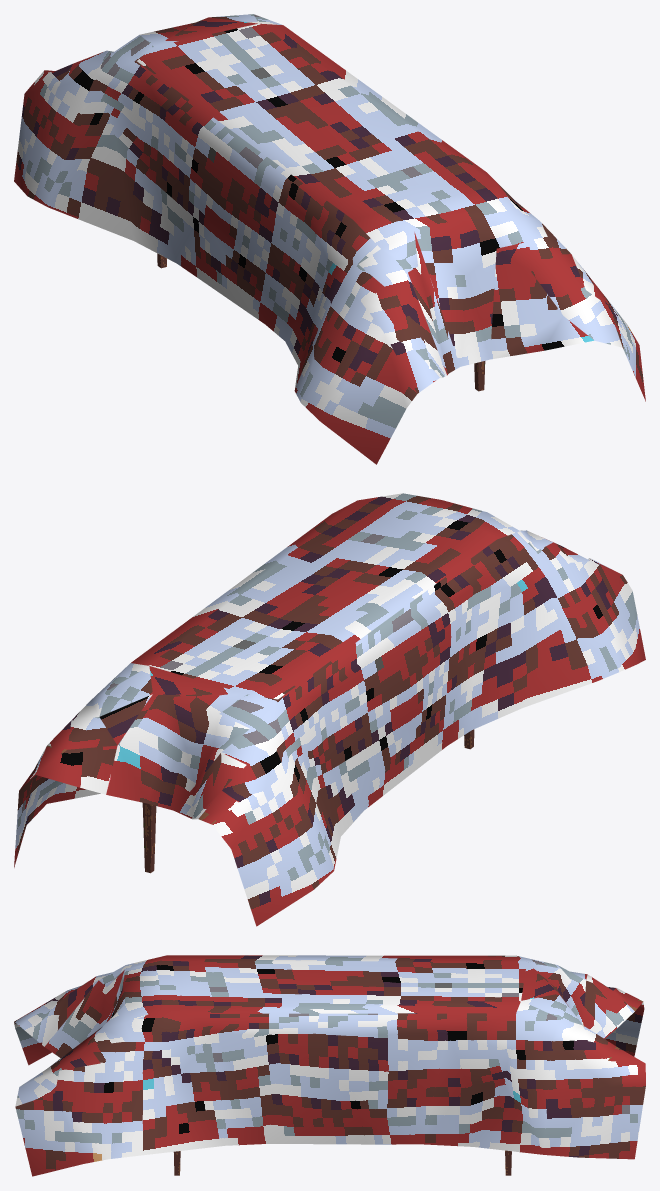
Rendered from TableFixedSize.fbx.
3 views of the same model, one above another, from view 1: azimuth 30°, elevation 25°; view 2: azimuth 150°, elevation 25°; view 3: azimuth 270°, elevation 25° (orthographic). The views are drawn at different scales.
Parts seen in each view (by area): view 1: Plane; view 2: Plane; view 3: Plane.
Part boxes in pixels (x1=…): Plane: x1=14, y1=14, x2=645, y2=464; Plane: x1=14, y1=493, x2=645, y2=926; Plane: x1=14, y1=955, x2=645, y2=1176.
Size of the model in its own units: 0.8595 by 1.79 by 0.5325.
3 materials, 3 textured.
